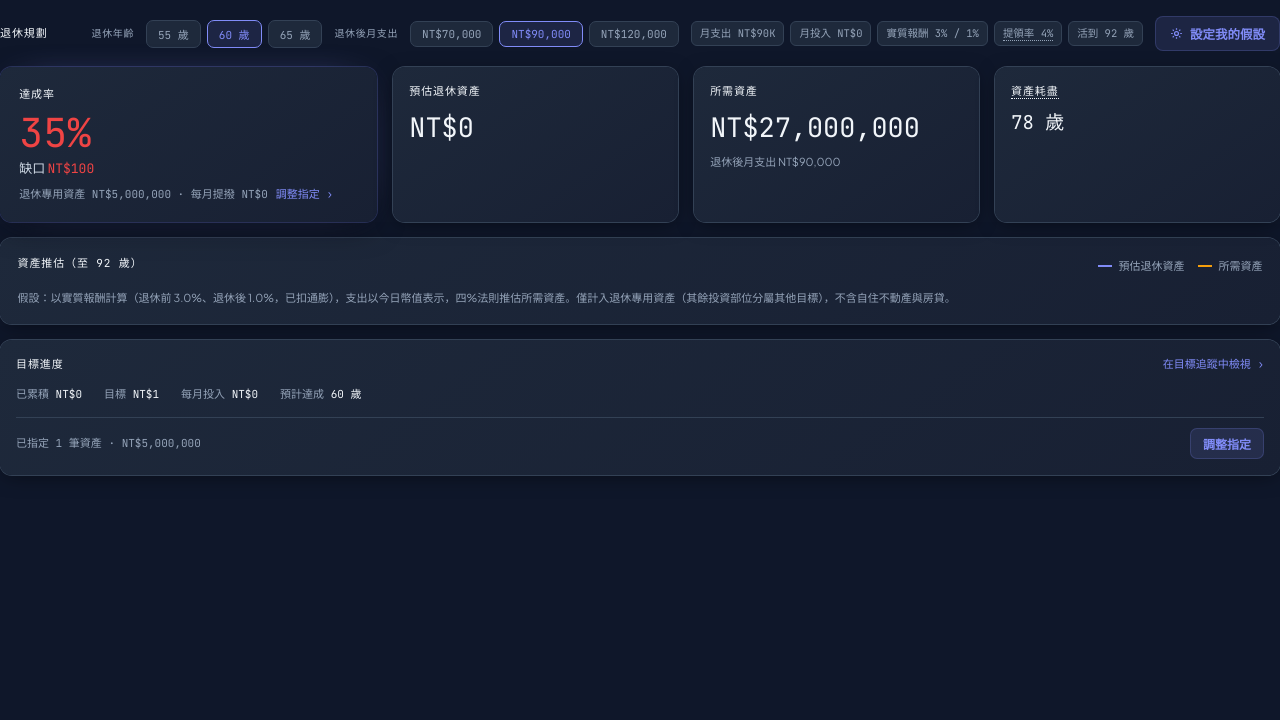
Test: the retirement page around it › once assets are assigned, drops the card, shows the rate, and offers 調整指定
The image size is (1280, 720).
Expected: the text "35%" is shown, 19,106 -> 91,159
Expected: the text "78 歲" is shown, 1011,110 -> 1064,134
Step 1. Click the link "調整指定 ›" → click(304, 194), box 276,186 -> 333,203
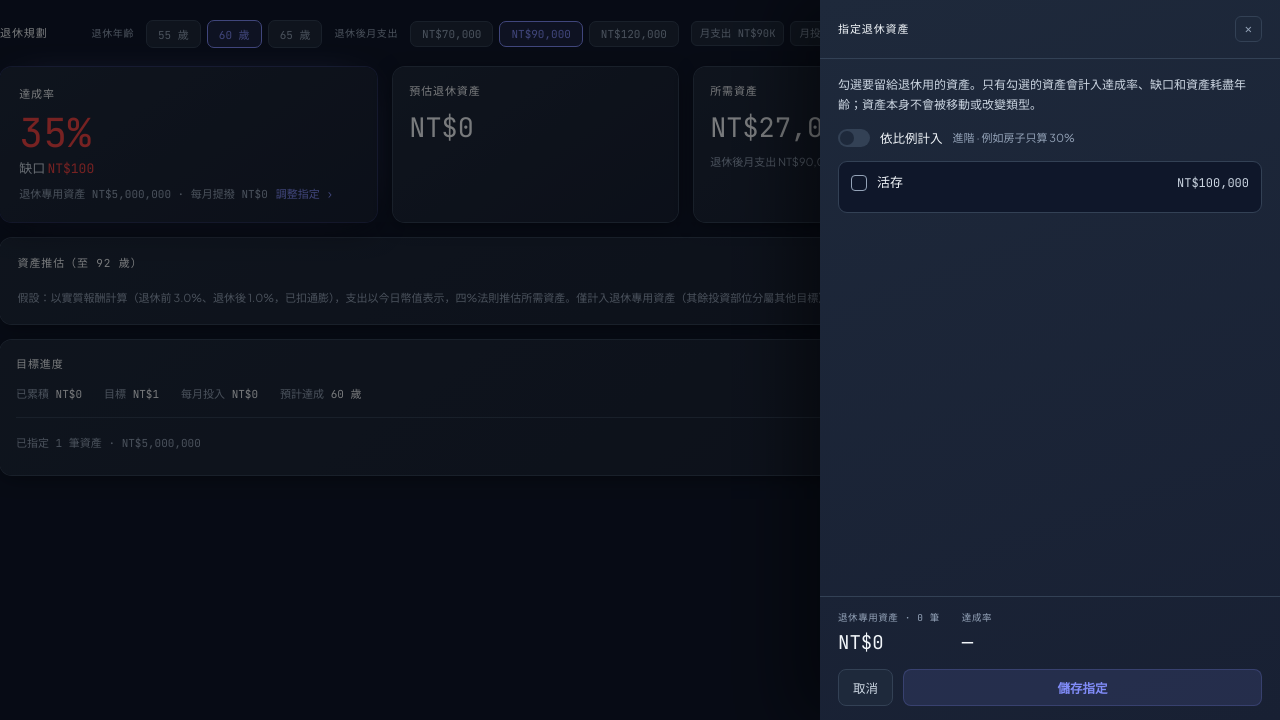
Now the dialog "指定退休資產" is shown, box 820,0 -> 1279,719
